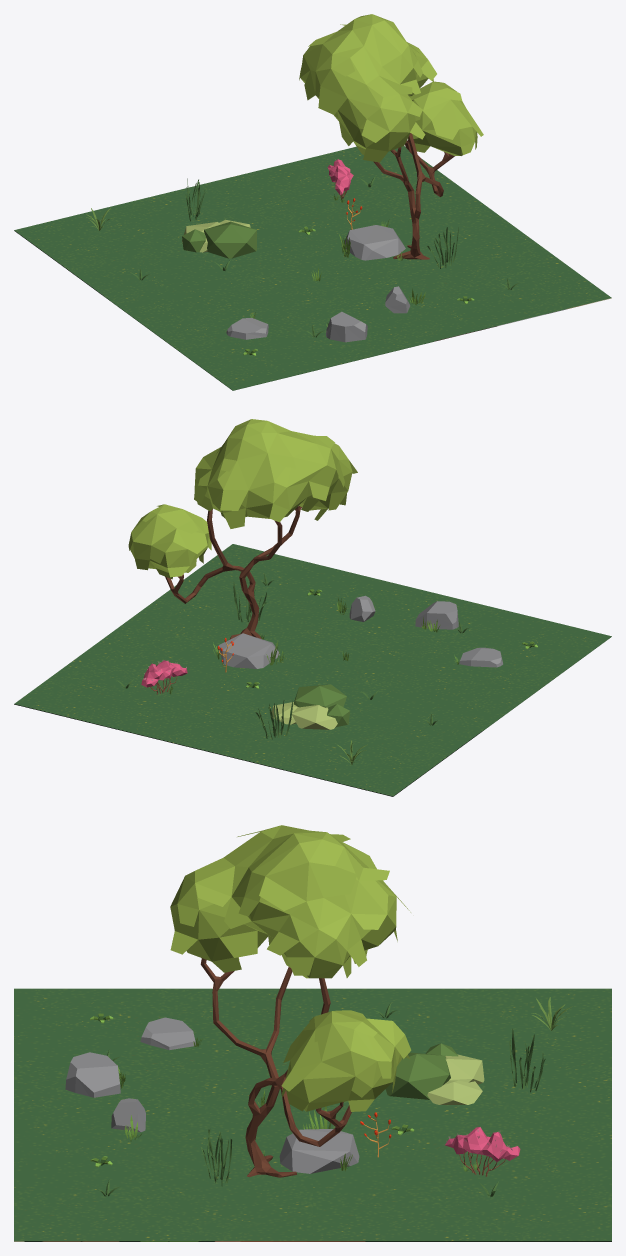
The picture shows the model from 3 angles, top to bottom: view 1: azimuth 30°, elevation 25°; view 2: azimuth 150°, elevation 25°; view 3: azimuth 270°, elevation 25°; orthographic projection. The views are drawn at different scales.
Parts seen in each view (by area): view 1: EP_06; view 2: EP_06; view 3: EP_06.
Part boxes in pixels (bbox=[...]): EP_06: bbox=[14, 14, 611, 390]; EP_06: bbox=[14, 419, 611, 796]; EP_06: bbox=[14, 825, 611, 1241].
Size of what is drawn, in the model's own units: 16 by 9.73 by 16.
1 material, 1 textured.
